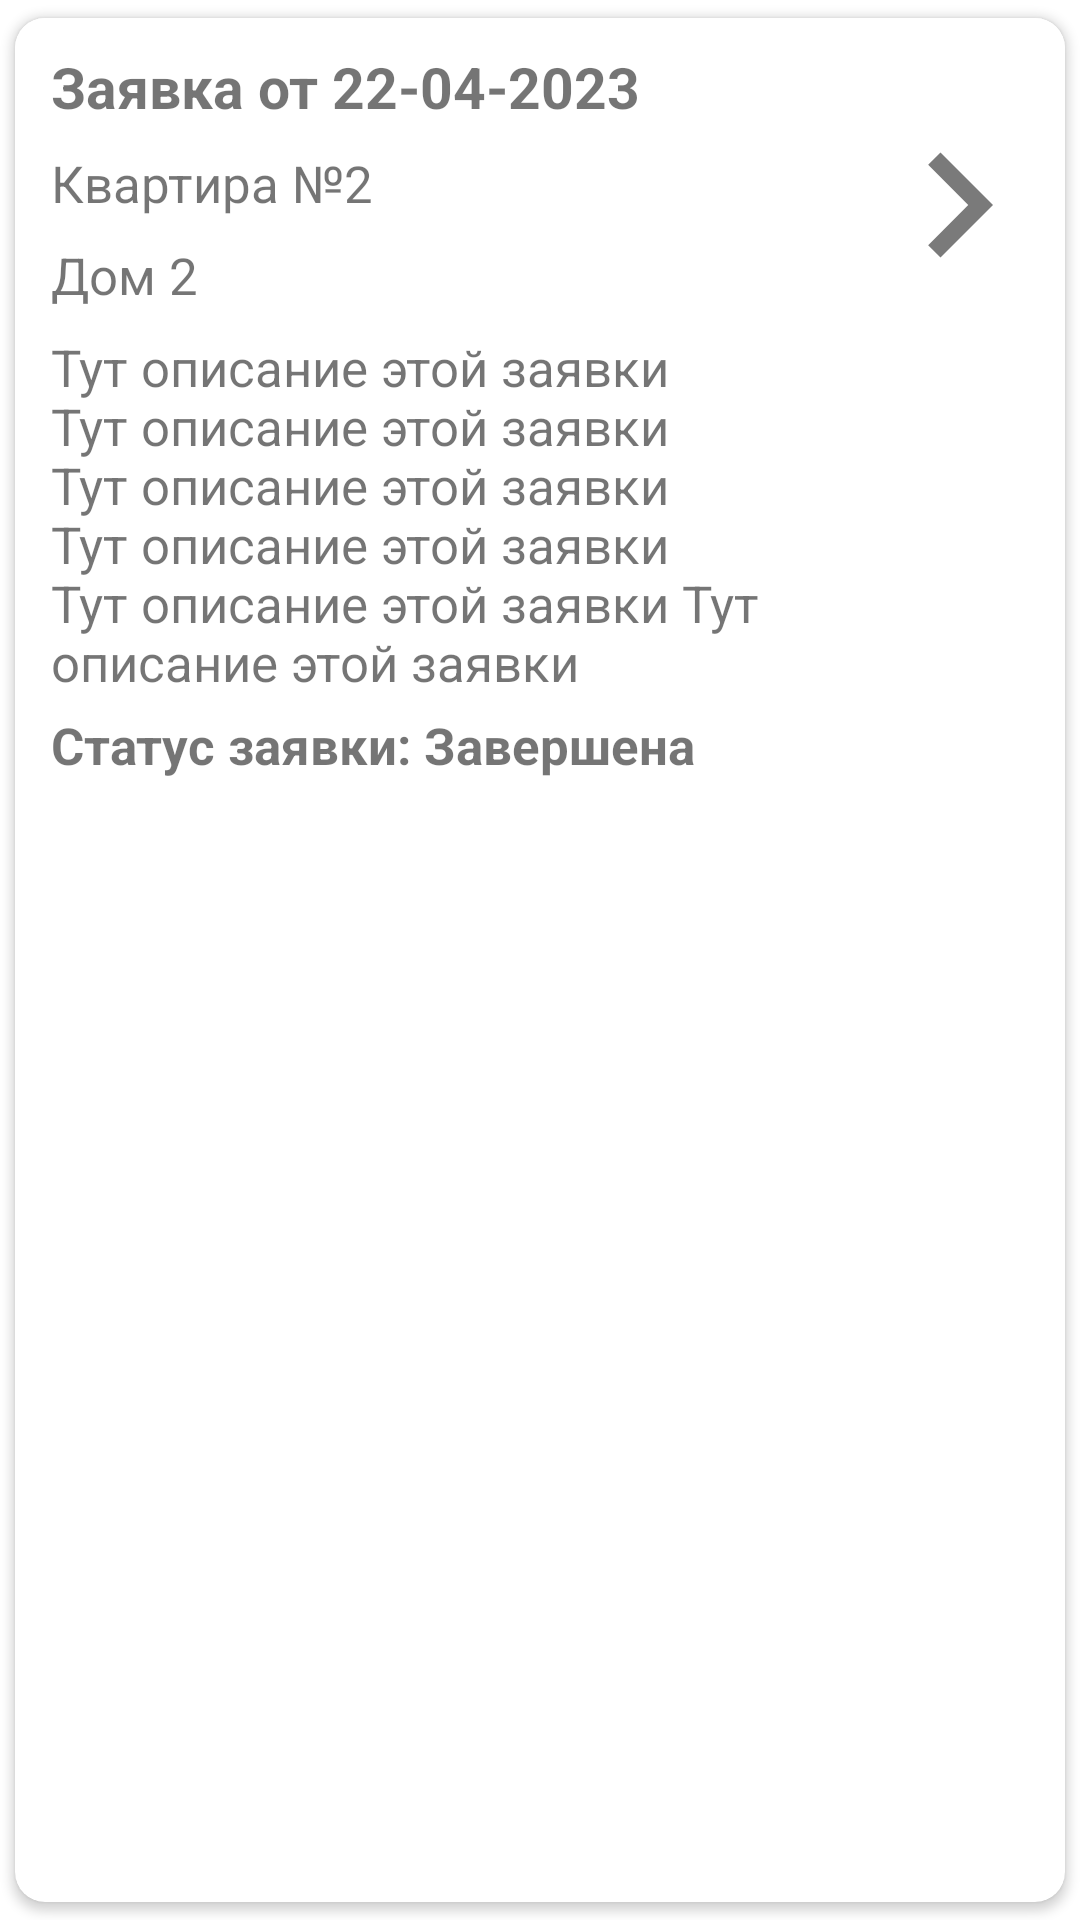

Icon click points for this 1080 × 1920 phone screenshot, format (x=x, y=y):
keyboard arrow right: (x=960, y=205)
